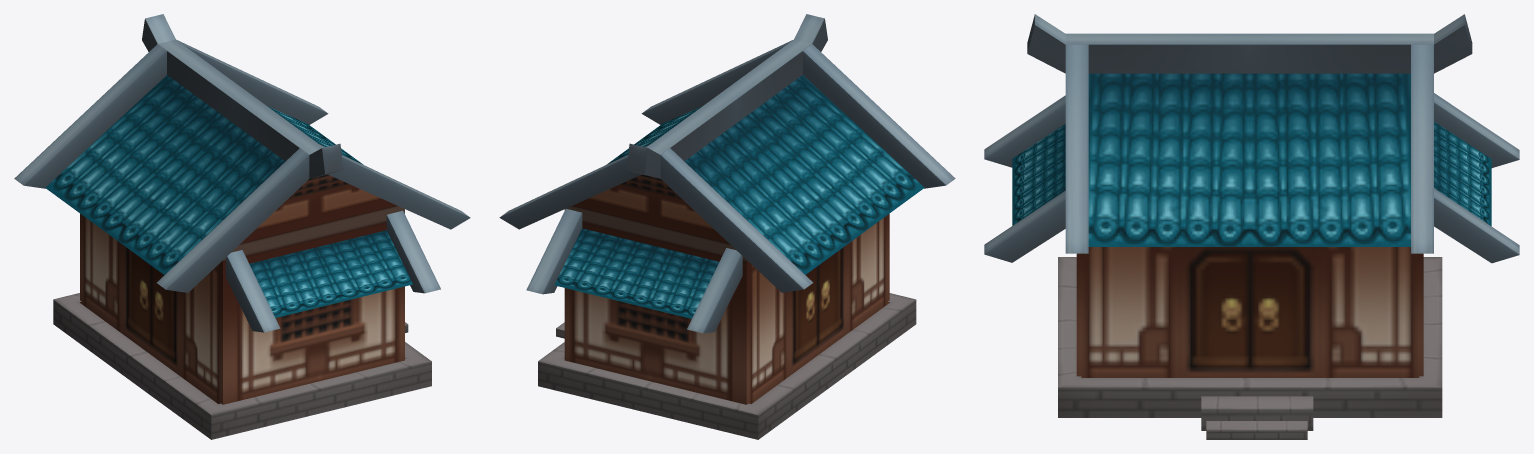
Rendered from QSMY_City_MinFang03.FBX.
3 renders of one model, left to right at view 1: azimuth 30°, elevation 25°; view 2: azimuth 150°, elevation 25°; view 3: azimuth 270°, elevation 25°, orthographic. The views are drawn at different scales.
Visible parts, largest first — view 1: Object117; view 2: Object117; view 3: Object117.
Part boxes in pixels (x1=…): Object117: x1=14, y1=14, x2=470, y2=439; Object117: x1=499, y1=14, x2=955, y2=439; Object117: x1=984, y1=14, x2=1519, y2=439.
Size of the model in its own units: 9.43 by 8.1 by 11.81.
